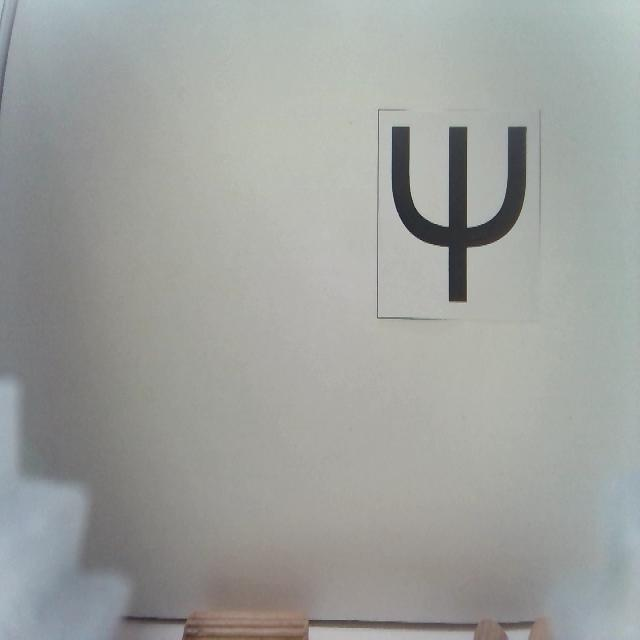nedoF: (391, 124, 529, 304)
